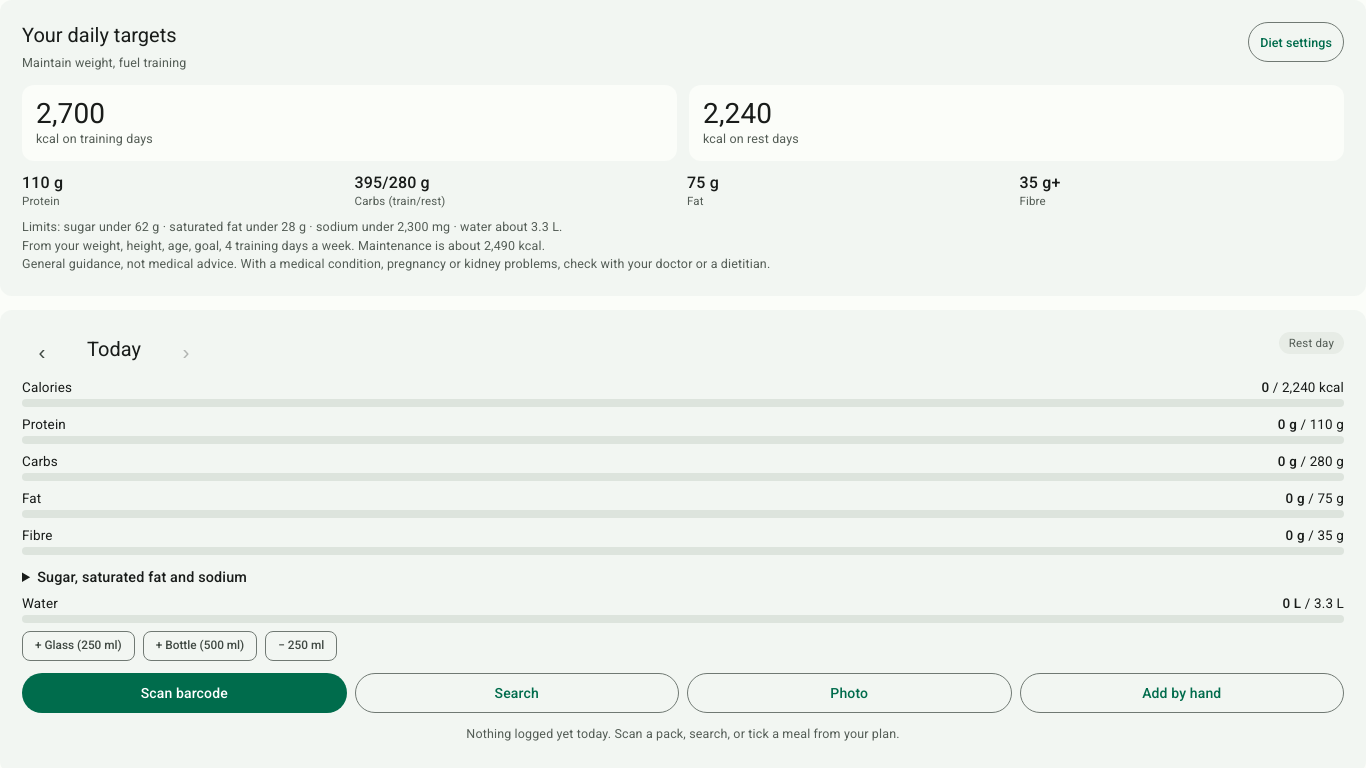
Test case: meal tracker screen › tracks water
Click the button "+ Glass (250 ml)" at (78, 646), box [22,631,135,661]
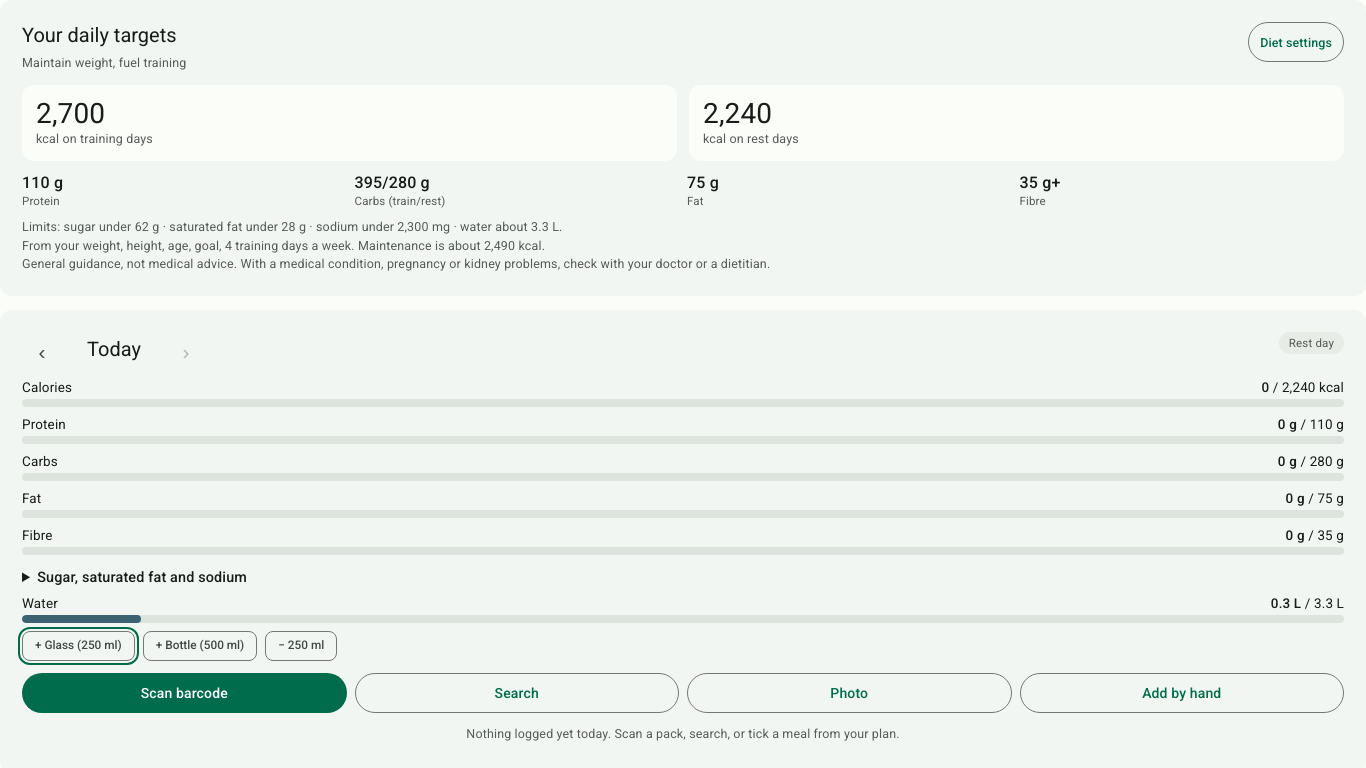
Click the button "+ Bottle (500 ml)" at (200, 646), box [143,631,257,661]
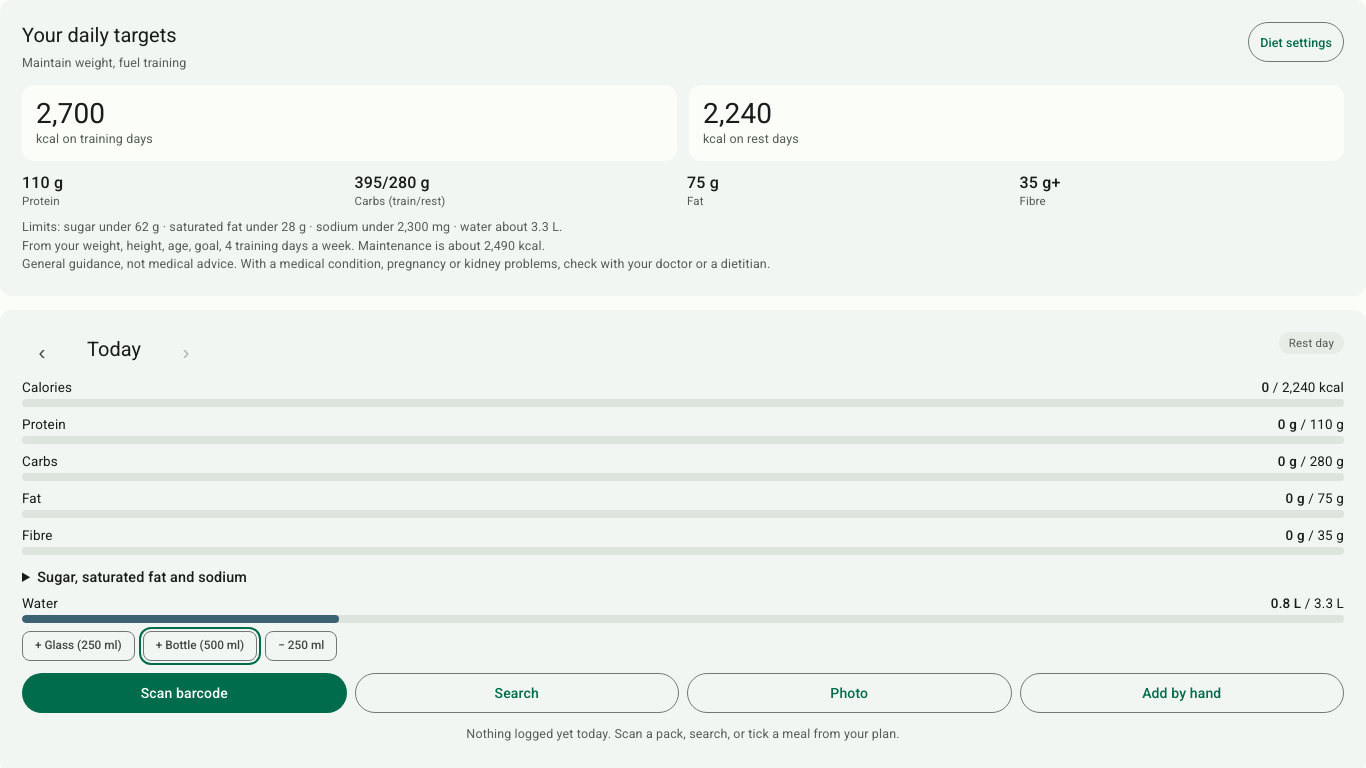
Click the button with aria-label "Remove 250 ml" at (301, 646), box [265,631,337,661]
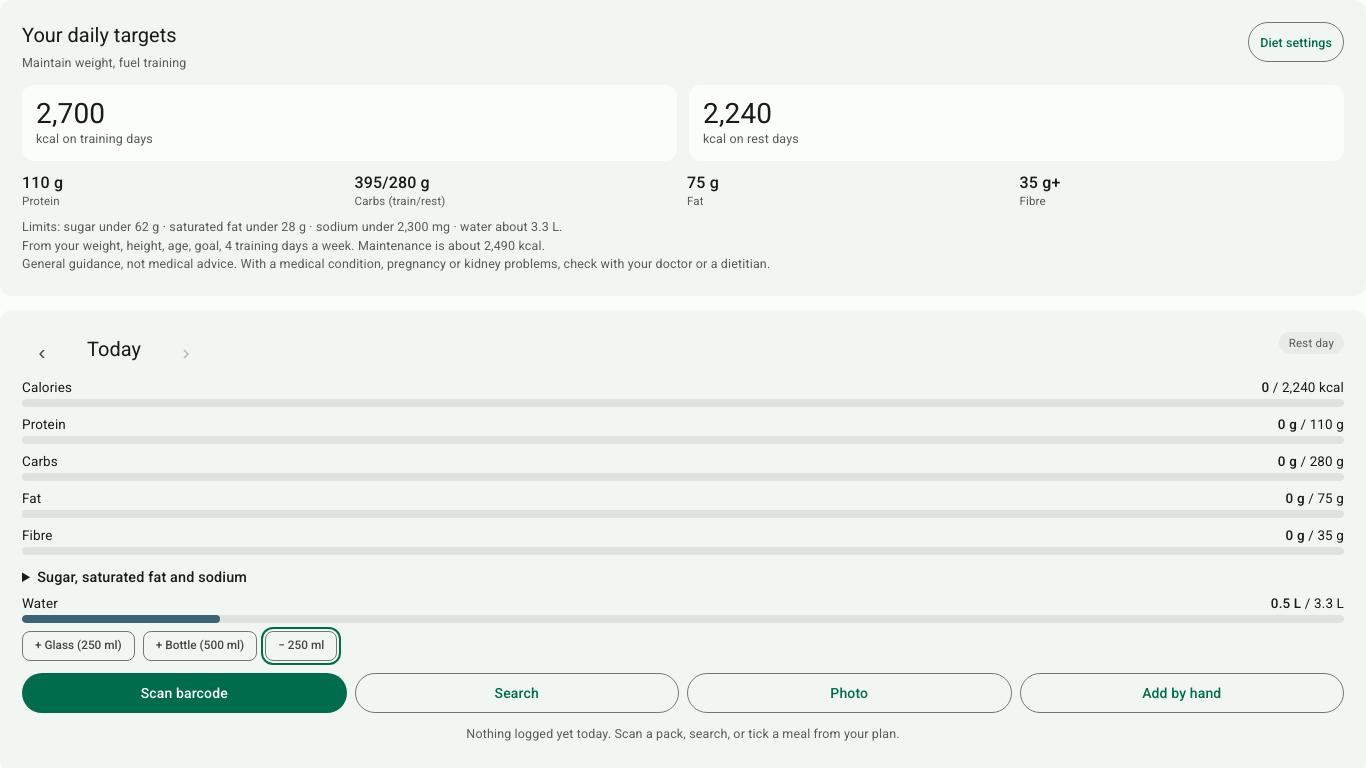
Now the progress indicator named "Water" has attribute aria-valuenow="0.5", box [22,615,1344,623]
